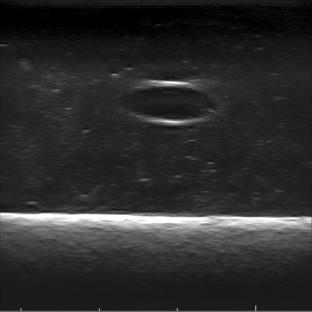vessel: (120, 80, 218, 126)
